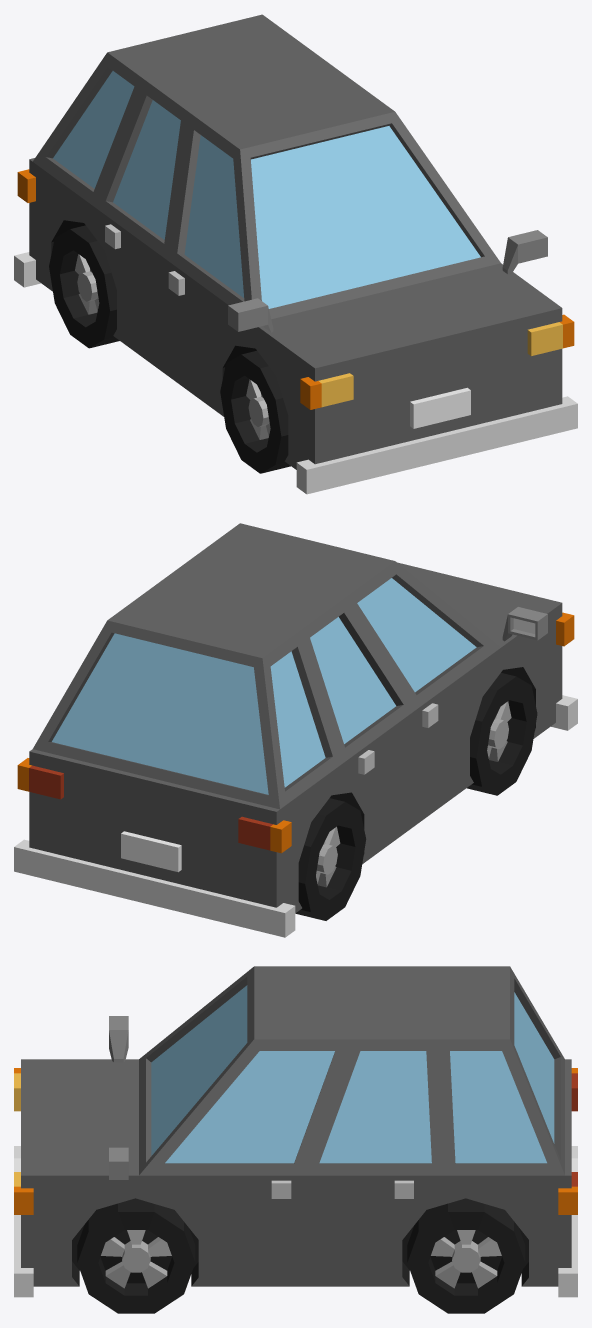
File: car.glb
The picture shows the model from 3 angles, top to bottom: view 1: azimuth 30°, elevation 25°; view 2: azimuth 150°, elevation 25°; view 3: azimuth 270°, elevation 25°; orthographic projection. The views are drawn at different scales.
Parts seen in each view (by area): view 1: Vehicle.006_Material_0; view 2: Vehicle.006_Material_0; view 3: Vehicle.006_Material_0.
Part boxes in pixels (bbox=[...]): Vehicle.006_Material_0: bbox=[14, 14, 577, 494]; Vehicle.006_Material_0: bbox=[14, 523, 577, 937]; Vehicle.006_Material_0: bbox=[14, 966, 577, 1313].
Size of the model in its own units: 2.5 by 2.01 by 4.1.
1 material, 1 textured.
